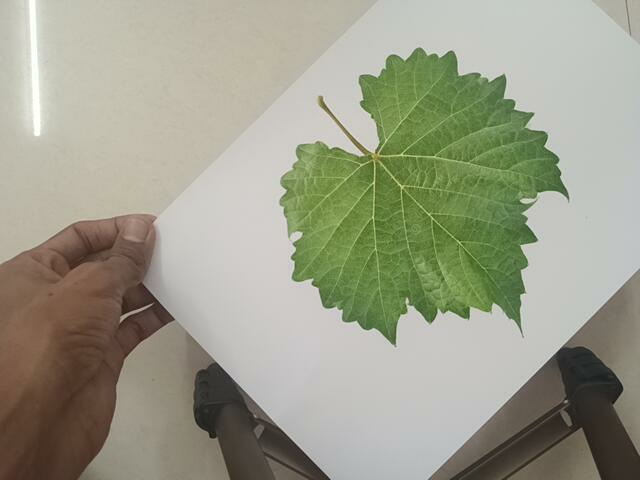Grape_Healthy: (281, 48, 568, 344)
